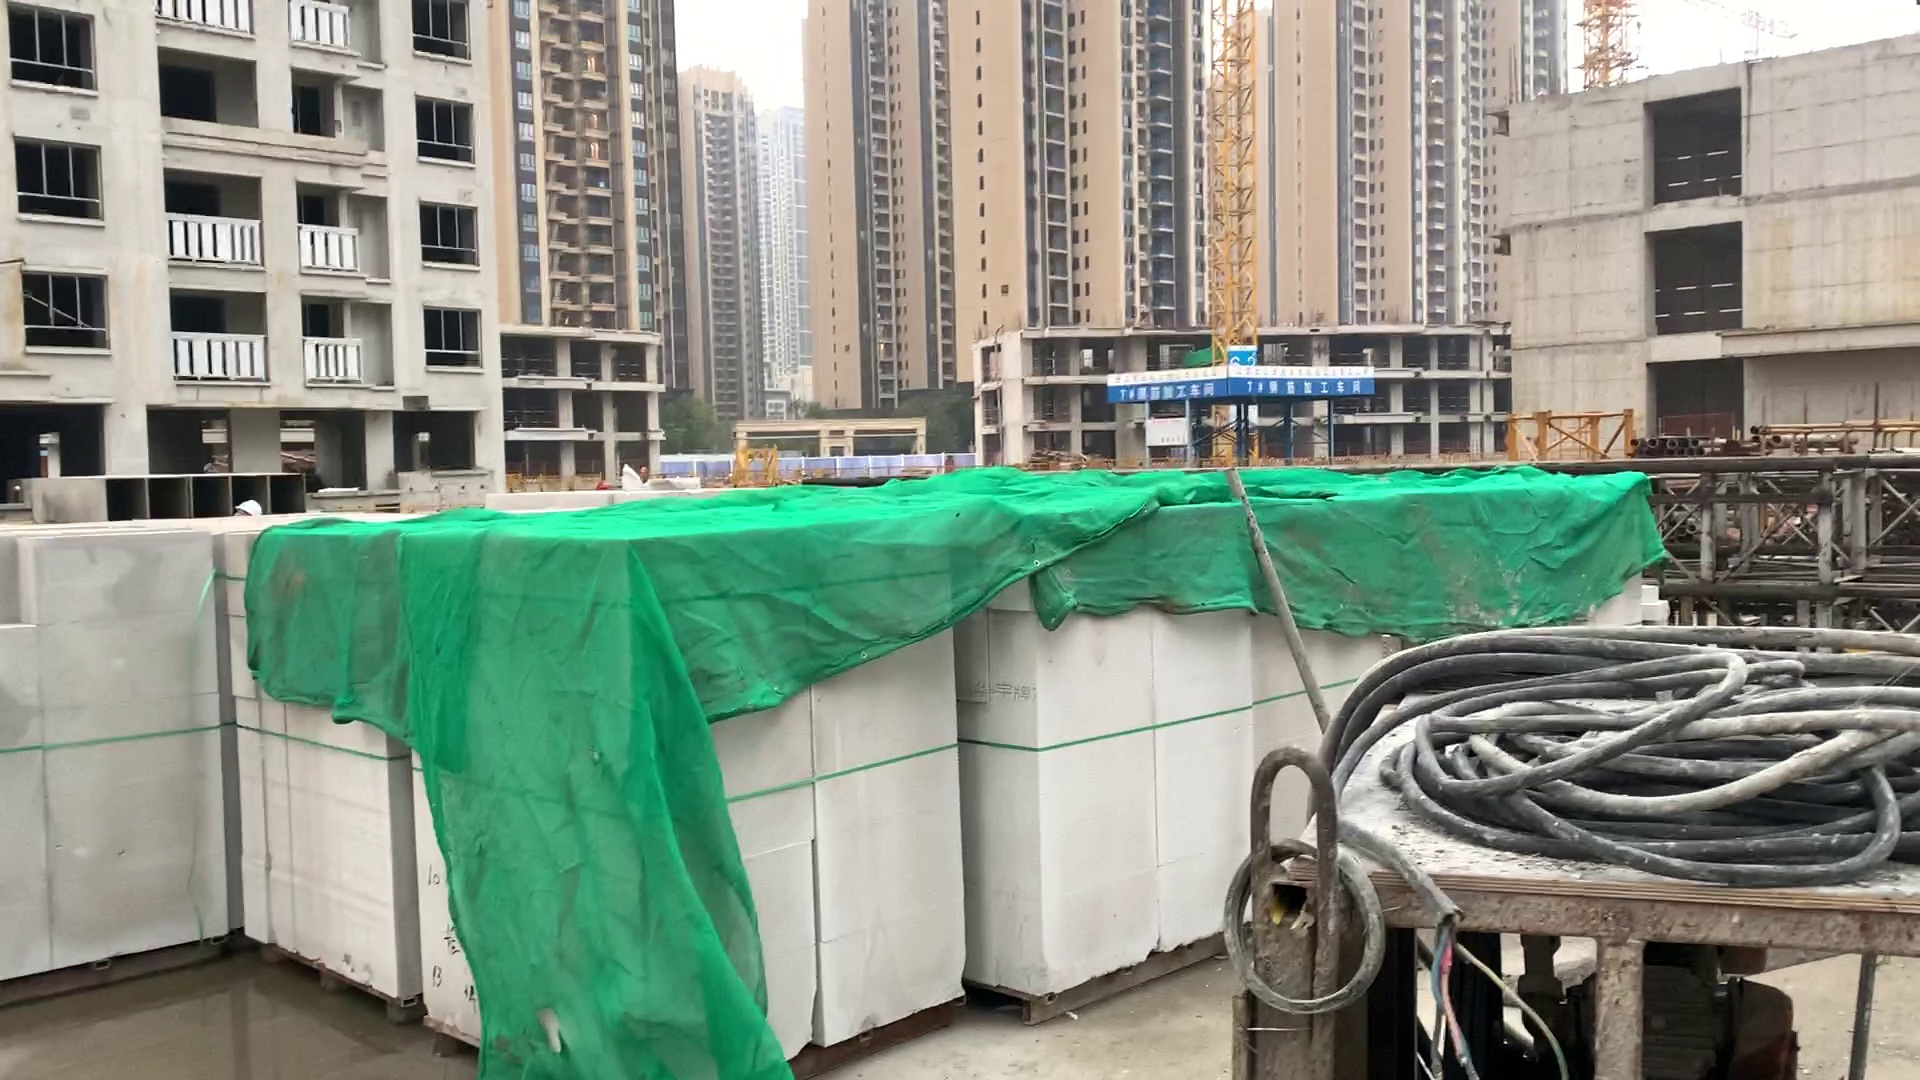brickwork: (406, 537, 699, 1080), (3, 535, 227, 984), (225, 535, 415, 1007), (953, 508, 1073, 1011), (1249, 498, 1410, 835)
